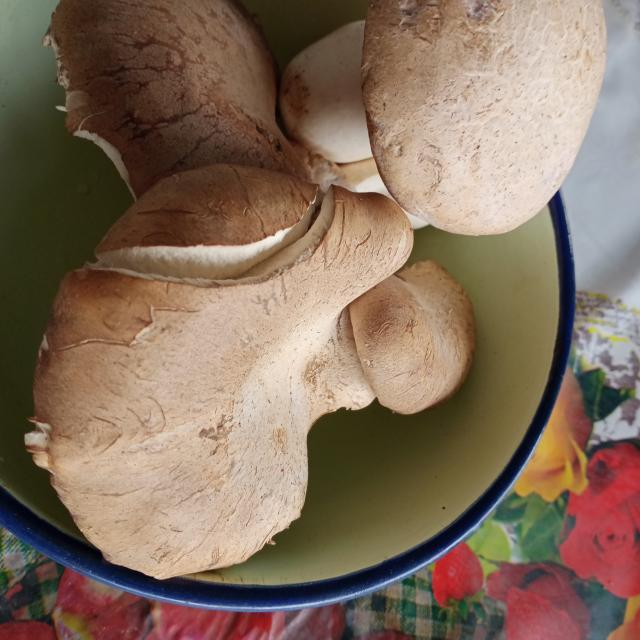Pleurotus cystidiosus: (40, 166, 417, 580), (279, 0, 609, 236)
